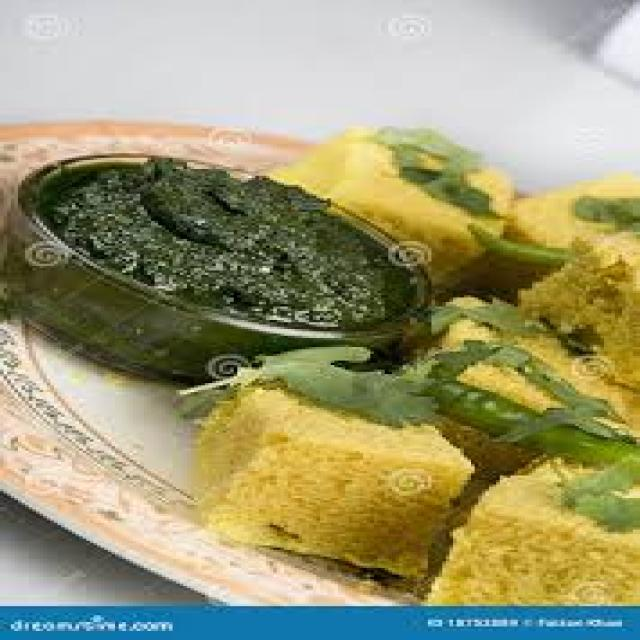DHOKLA: (194, 379, 476, 588), (273, 131, 517, 292), (421, 297, 630, 476), (431, 468, 636, 606), (517, 230, 630, 396)
